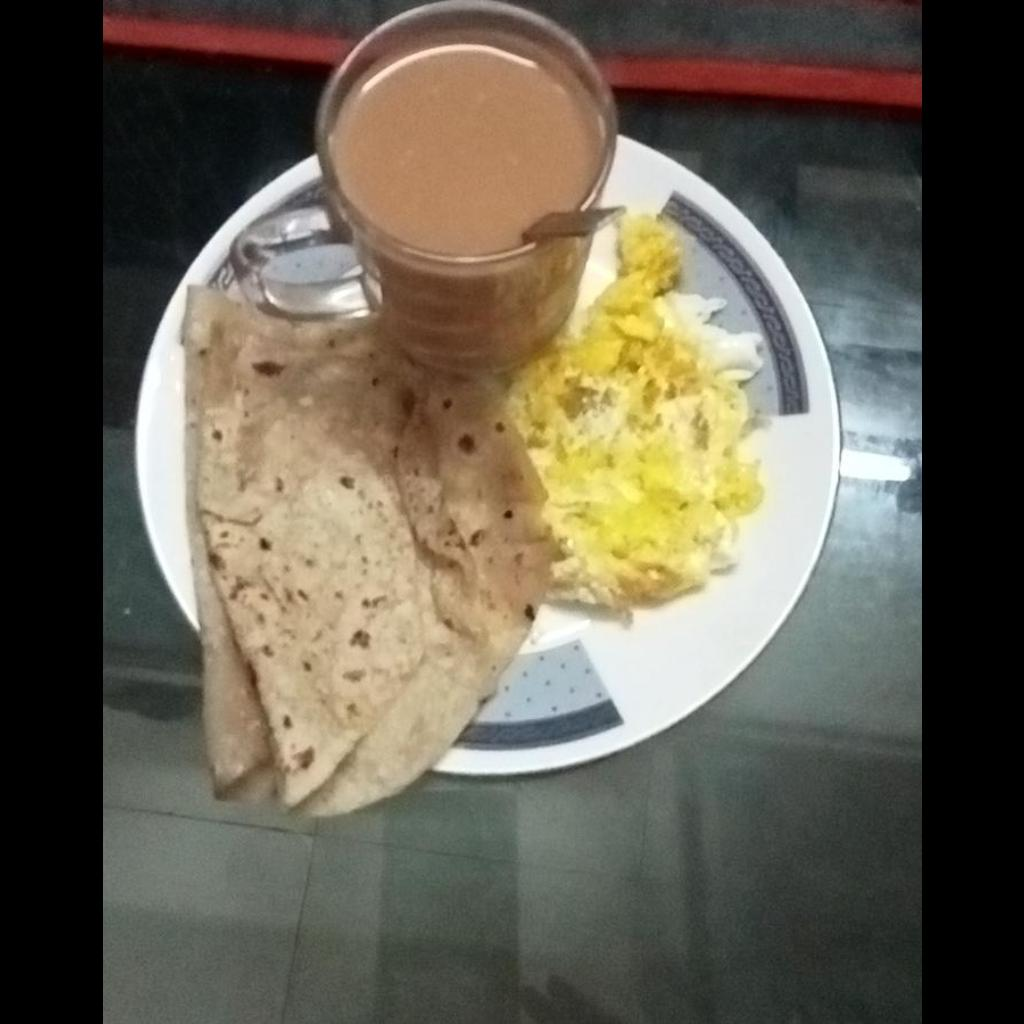cha: (333, 45, 594, 249)
egg-poached: (512, 209, 766, 632)
ruti: (184, 286, 555, 819)
